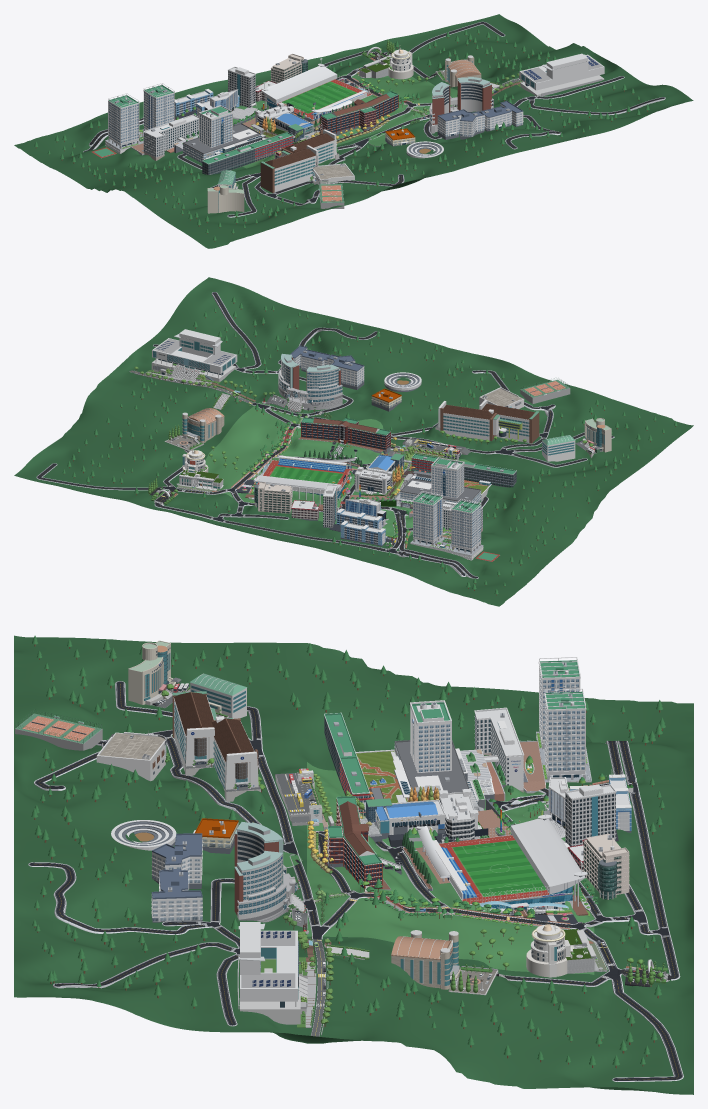
The model's file is campus_scene.glb.
3 renders of one model, top to bottom at view 1: azimuth 30°, elevation 25°; view 2: azimuth 150°, elevation 25°; view 3: azimuth 270°, elevation 25°, orthographic. The views are drawn at different scales.
Parts seen in each view (by area): view 1: Campus_Terrain, Campus_Road_Network, 24_스튜던트 플라자, 23_글로벌빌리지, 13_뉴밀레니엄관, 21_민석도서관, 02_전자정보관, 04_응용공학관, 09_디자인홀, 14_U-IT관, 06_어문관, 08_경영관 (+18 smaller); view 2: Campus_Terrain, Campus_Road_Network, 23_글로벌빌리지, 21_민석도서관, 24_스튜던트 플라자, 02_전자정보관, 13_뉴밀레니엄관, 03_보건의료관 I, 19_학생생활아파트, 01_국제협력관, 17_민석스포츠센터, 04_응용공학관 (+20 smaller); view 3: Campus_Terrain, Campus_Road_Network, 24_스튜던트 플라자, 13_뉴밀레니엄관, 21_민석도서관, 23_글로벌빌리지, 05_산학협력관, 06_어문관, 17_민석스포츠센터, 02_전자정보관, 04_응용공학관, 03_보건의료관 I (+21 smaller).
Part boxes in pixels (x1=…): Campus_Terrain: x1=14, y1=14, x2=693, y2=248; Campus_Road_Network: x1=83, y1=21, x2=665, y2=217; 24_스튜던트 플라자: x1=260, y1=58, x2=371, y2=124; 23_글로벌빌리지: x1=91, y1=83, x2=174, y2=158; 13_뉴밀레니엄관: x1=166, y1=105, x2=265, y2=162; 21_민석도서관: x1=515, y1=53, x2=604, y2=96; 02_전자정보관: x1=313, y1=91, x2=398, y2=135; 04_응용공학관: x1=260, y1=145, x2=318, y2=192; 09_디자인홀: x1=202, y1=132, x2=293, y2=174; 14_U-IT관: x1=143, y1=114, x2=198, y2=160; 06_어문관: x1=413, y1=76, x2=493, y2=116; 08_경영관: x1=437, y1=109, x2=484, y2=139; Campus_Terrain: x1=14, y1=277, x2=693, y2=606; Campus_Road_Network: x1=36, y1=292, x2=614, y2=578; 23_글로벌빌리지: x1=410, y1=491, x2=499, y2=561; 21_민석도서관: x1=146, y1=329, x2=237, y2=385; 24_스튜던트 플라자: x1=236, y1=449, x2=357, y2=510; 02_전자정보관: x1=298, y1=417, x2=390, y2=467; 13_뉴밀레니엄관: x1=399, y1=457, x2=491, y2=517; 03_보건의료관 I: x1=435, y1=401, x2=499, y2=444; 19_학생생활아파트: x1=329, y1=508, x2=410, y2=550; 01_국제협력관: x1=302, y1=364, x2=342, y2=418; 17_민석스포츠센터: x1=164, y1=408, x2=224, y2=452; 04_응용공학관: x1=479, y1=399, x2=539, y2=444; Campus_Terrain: x1=14, y1=635, x2=693, y2=1094; Campus_Road_Network: x1=28, y1=681, x2=683, y2=1081; 24_스튜던트 플라자: x1=415, y1=804, x2=598, y2=925; 13_뉴밀레니엄관: x1=355, y1=700, x2=513, y2=808; 21_민석도서관: x1=237, y1=922, x2=316, y2=1027; 23_글로벌빌리지: x1=519, y1=657, x2=591, y2=793; 05_산학협력관: x1=368, y1=788, x2=511, y2=849; 06_어문관: x1=234, y1=850, x2=324, y2=933; 17_민석스포츠센터: x1=391, y1=930, x2=513, y2=995; 02_전자정보관: x1=327, y1=796, x2=432, y2=890; 04_응용공학관: x1=172, y1=691, x2=216, y2=775; 03_보건의료관 I: x1=211, y1=716, x2=265, y2=801.
Size of the model in its own units: 708 by 107 by 492.
Materials: 404 (127 with a texture image).
